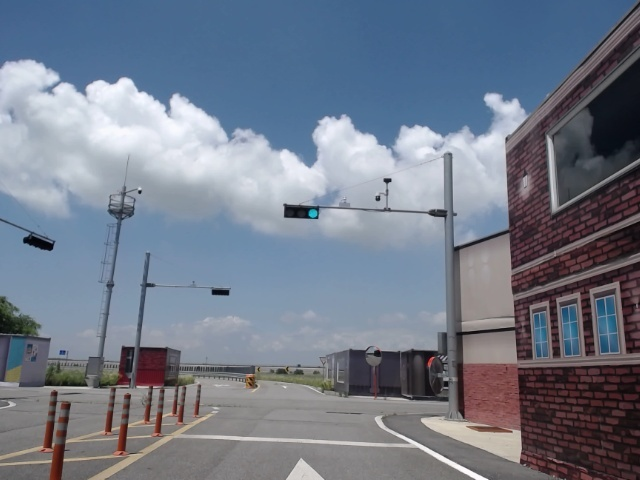green_3: (284, 208, 318, 219)
